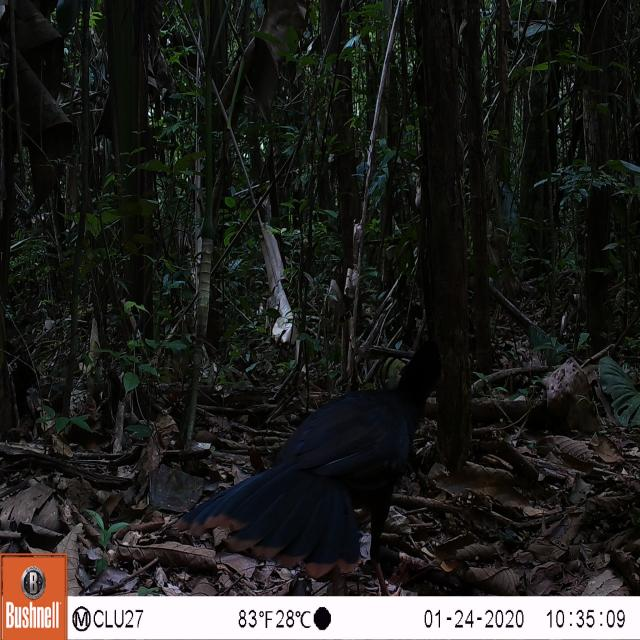Salvins Curassow: (165, 324, 468, 582)
